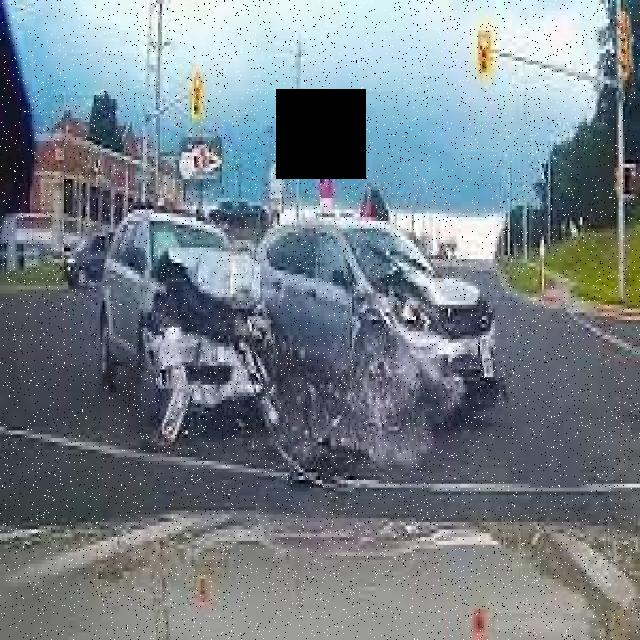moderate: (102, 192, 495, 440)
